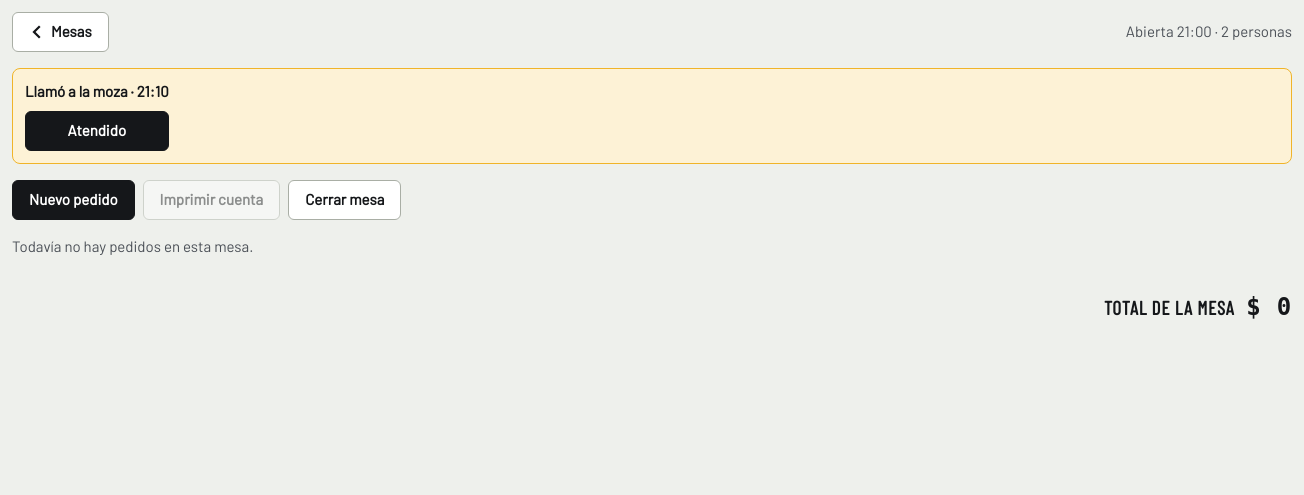
"Cerrar mesa" (sin nada que cobrar) pide confirmación antes de cerrar
Later steps or results of the test are not shown.
Click the button "Cerrar mesa" at coordinates (345, 200), box [288, 180, 401, 220]
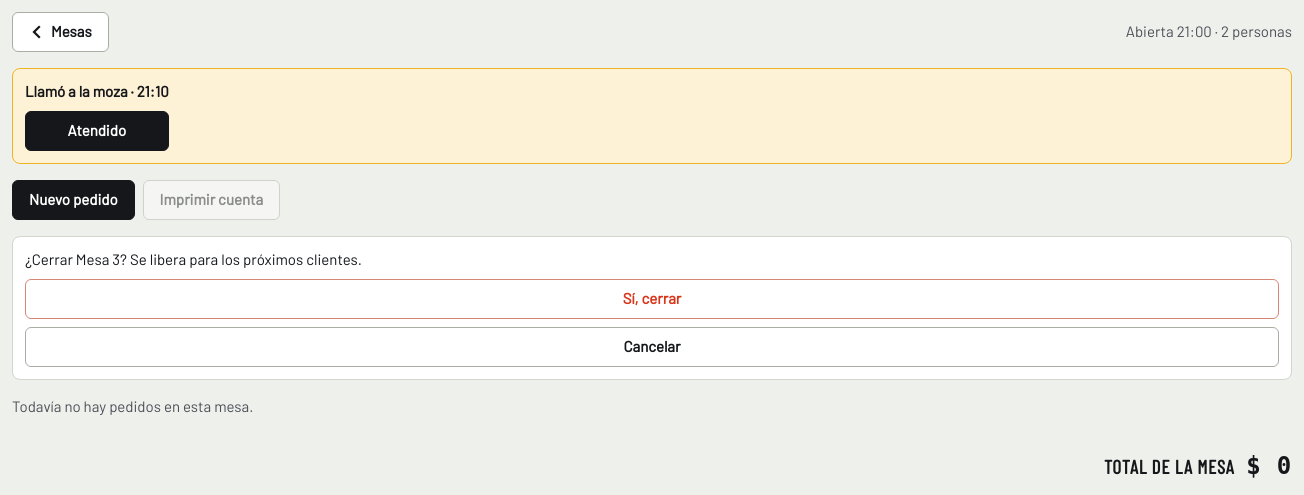
Now the text "¿Cerrar Mesa 3? Se libera para los próximos clientes." is shown, box [25, 250, 362, 268]
